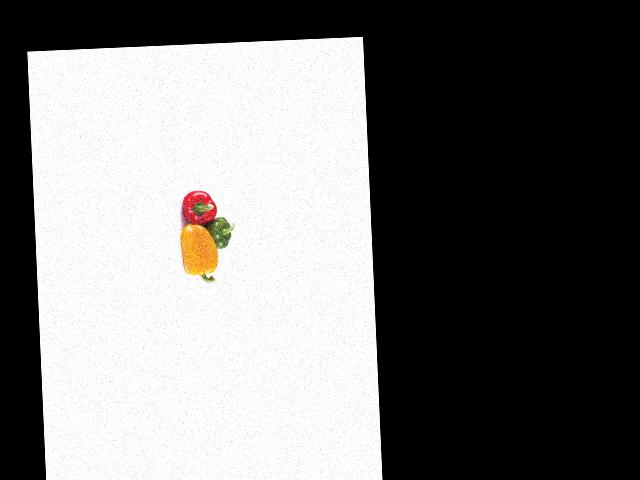bell_pepper: (201, 213, 236, 252)
